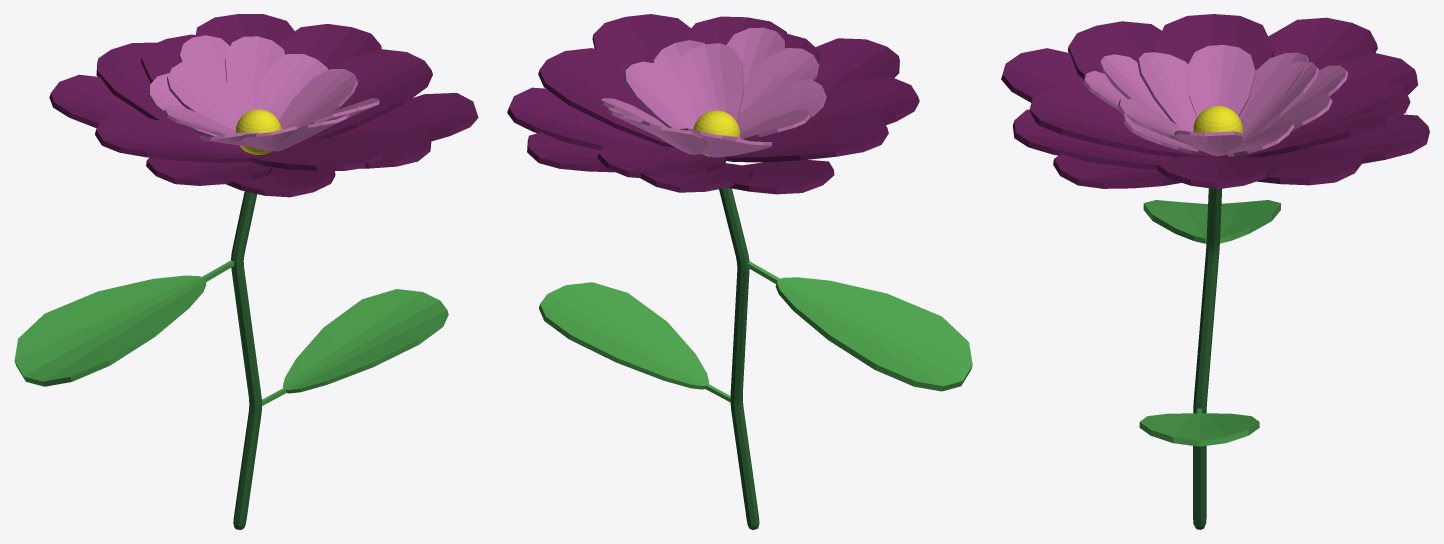
Rendered from flor1.fbx.
The picture shows the model from 3 angles, left to right: view 1: azimuth 30°, elevation 25°; view 2: azimuth 150°, elevation 25°; view 3: azimuth 270°, elevation 25°; orthographic projection. The views are drawn at different scales.
Parts seen in each view (by area): view 1: Circle; view 2: Circle; view 3: Circle.
Boxes of the visible parts, <box> form: Circle: <box>14,14,478,529</box>; Circle: <box>507,14,972,529</box>; Circle: <box>1001,14,1429,529</box>.
Bounding box in the file's own units: 5.93 × 6.04 × 4.98.
